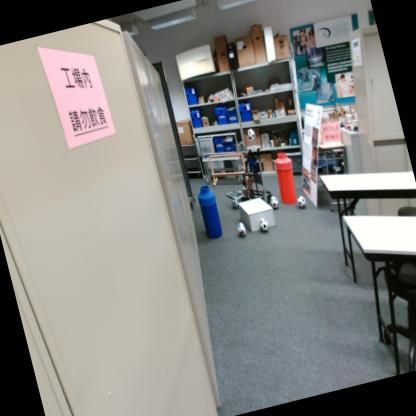ball: (259, 218, 270, 234), (236, 221, 247, 237), (270, 195, 280, 209), (297, 195, 307, 209), (247, 128, 256, 142), (232, 196, 240, 208)
